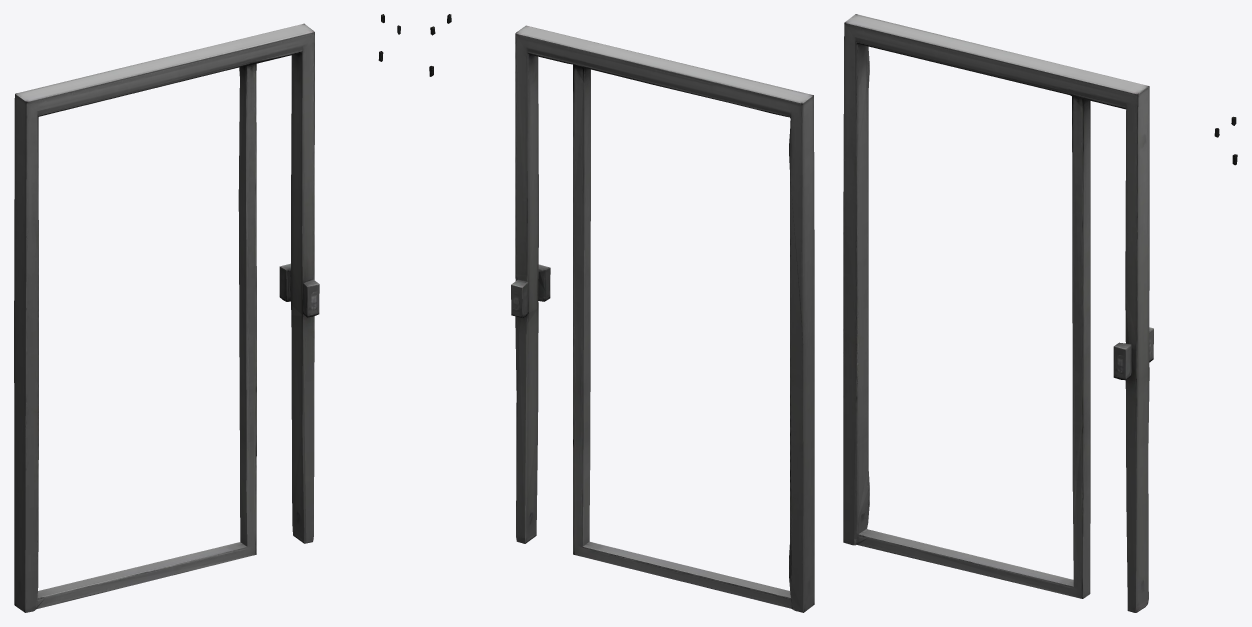
File: metal-doorframe.glb
The picture shows the model from 3 angles, left to right: view 1: azimuth 30°, elevation 25°; view 2: azimuth 150°, elevation 25°; view 3: azimuth 330°, elevation 25°; orthographic projection. The views are drawn at different scales.
Visible parts, largest first — view 1: geometry_0; view 2: geometry_0; view 3: geometry_0.
Boxes of the visible parts, x1,y1,x2,y2 form: geometry_0: (14, 14, 400, 612); geometry_0: (429, 14, 814, 612); geometry_0: (843, 14, 1237, 612).
Size of the model in its own units: 0.7612 by 1 by 0.1.
1 material, 1 textured.
